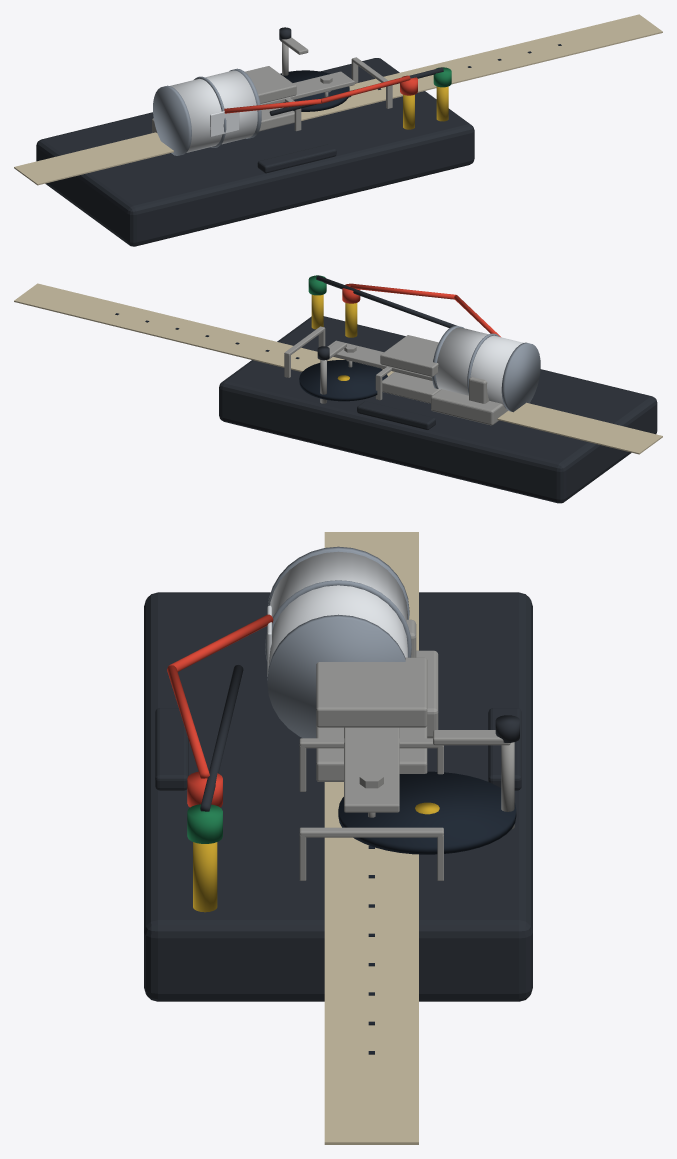
The model's file is ticker_timer.glb.
The picture shows the model from 3 angles, top to bottom: view 1: azimuth 30°, elevation 25°; view 2: azimuth 150°, elevation 25°; view 3: azimuth 270°, elevation 25°; orthographic projection. The views are drawn at different scales.
Parts seen in each view (by area): view 1: base, tape, coil, coil_cap_0, magnet_upper, base_rib_f, reed, paper_disc, coil_label, magnet_lower, wire_red_b, wire_red_a (+3 smaller); view 2: base, tape, coil, paper_disc, coil_cap_0, magnet_upper, coil_bracket, magnet_lower, base_rib_b, reed, wire_black, wire_red_a (+3 smaller); view 3: base, tape, paper_disc, coil_cap_1, coil, magnet_upper, reed, base_rib_f, magnet_lower, post_brass_b, limit_1_top, wire_black (+10 smaller).
Part boxes in pixels (x1,y1,x2,y2): base: (36,58,474,246); tape: (14,14,662,185); coil: (170,70,257,152); coil_cap_0: (153,85,191,155); magnet_upper: (245,66,296,103); base_rib_f: (257,144,336,173); reed: (260,71,354,104); paper_disc: (280,70,349,111); coil_label: (210,111,239,137); magnet_lower: (259,107,294,131); wire_red_b: (224,99,321,113); wire_red_a: (321,75,410,103); base: (219,316,657,503); tape: (14,283,662,454); coil: (436,327,523,408); paper_disc: (299,360,387,401); coil_cap_0: (501,342,540,412); magnet_upper: (380,335,438,376); coil_bracket: (431,389,508,425); magnet_lower: (382,372,440,403); base_rib_b: (357,401,435,429); reed: (327,340,432,380); wire_black: (316,275,456,327); wire_red_a: (350,283,455,299); base: (144,592,532,1001); tape: (324,532,418,1144); paper_disc: (338,771,516,854); coil_cap_1: (267,614,405,738); coil: (269,551,407,664); magnet_upper: (316,657,427,727); reed: (344,727,399,812); base_rib_f: (155,708,188,790); magnet_lower: (316,726,427,781); post_brass_b: (193,842,217,912); limit_1_top: (299,827,443,837); wire_black: (200,665,243,811).
Size of the model in its own units: 0.26 by 0.0437 by 0.07.
